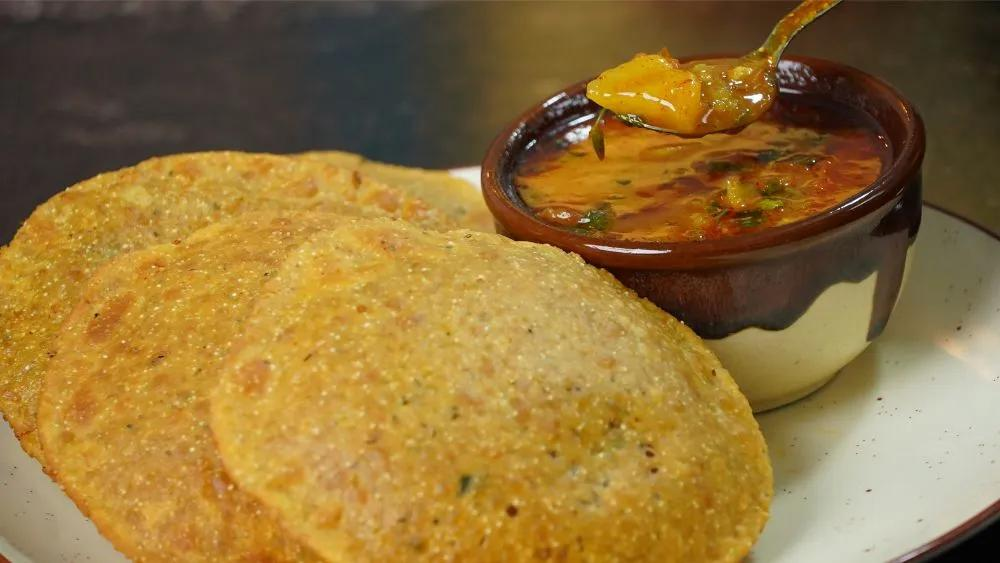puri: (34, 176, 577, 563)
